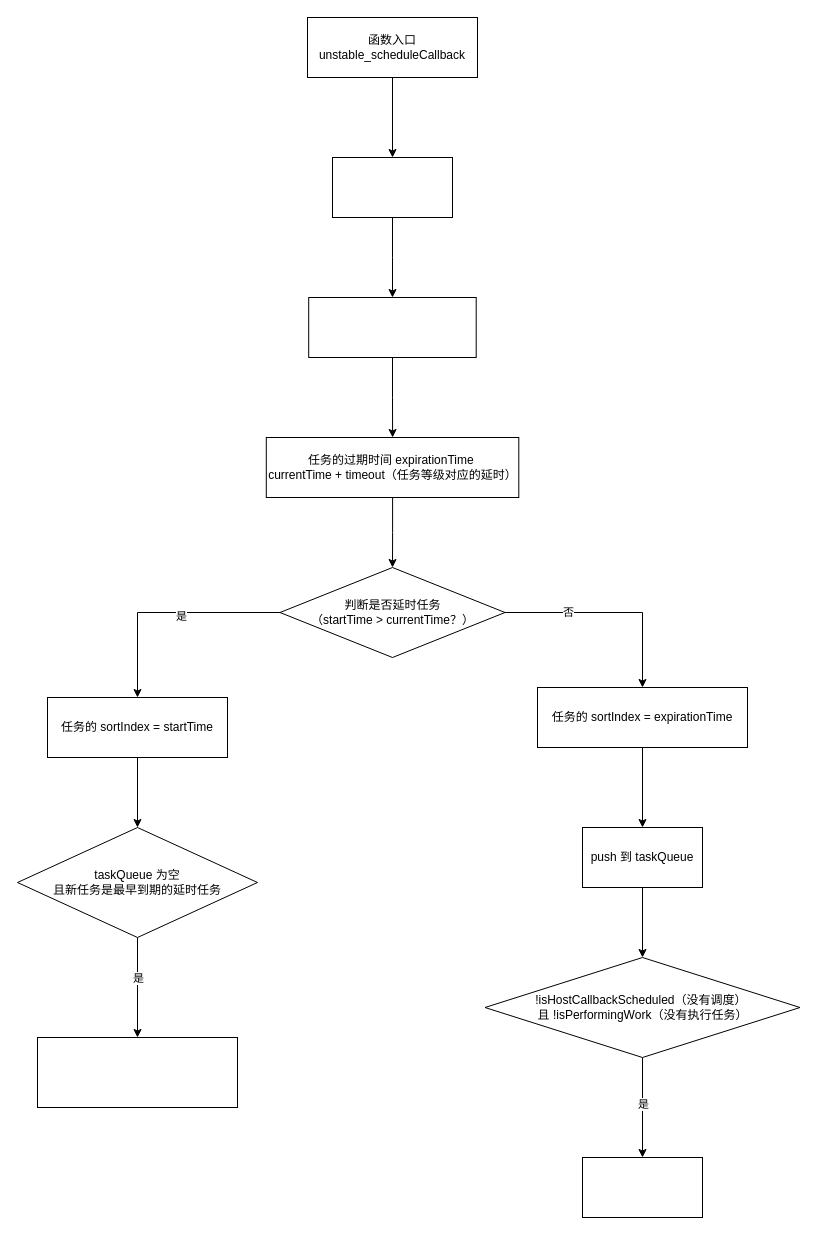
The diagram is 818 pixels wide and 1235 high, and some of its shapes have lost their labels. The centre of each missing label's shape, as x and y in pixels:
requestHostCallback 触发宏任务: the point at 642,1187
requestHostTimeout 设置新的定时器，进入延时任务流程: the point at 137,1072
任务可执行的最早时 startTime currentTime + delay: the point at 392,327
获取当前时间 currentTime: the point at 392,187
